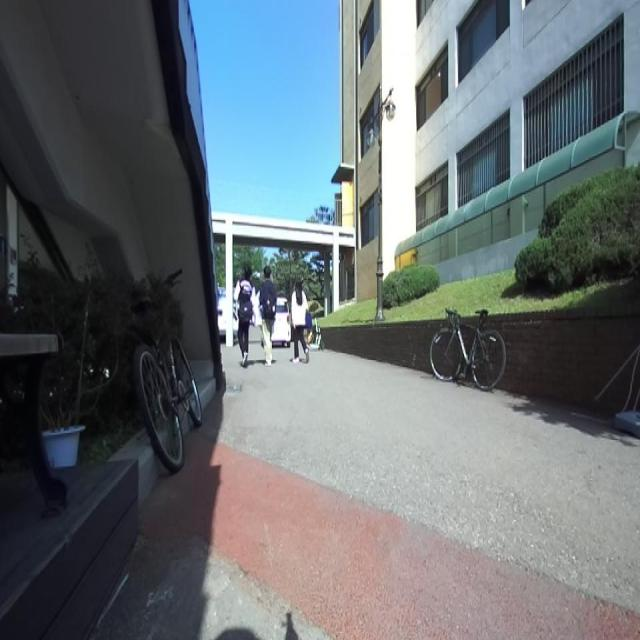sidewalk: (92, 338, 640, 639)
